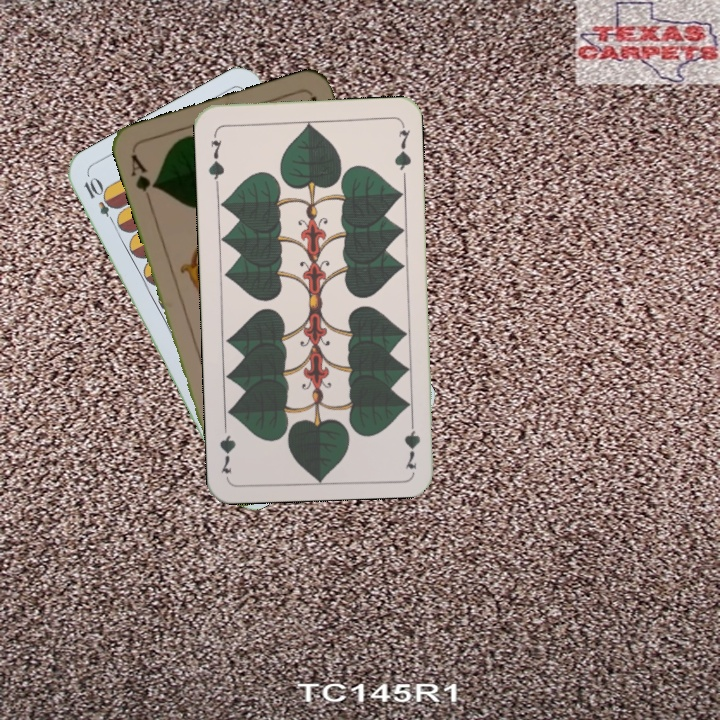E10: (79, 174, 121, 229)
G7: (204, 128, 226, 188), (400, 411, 422, 471)
GA: (127, 150, 160, 207)
